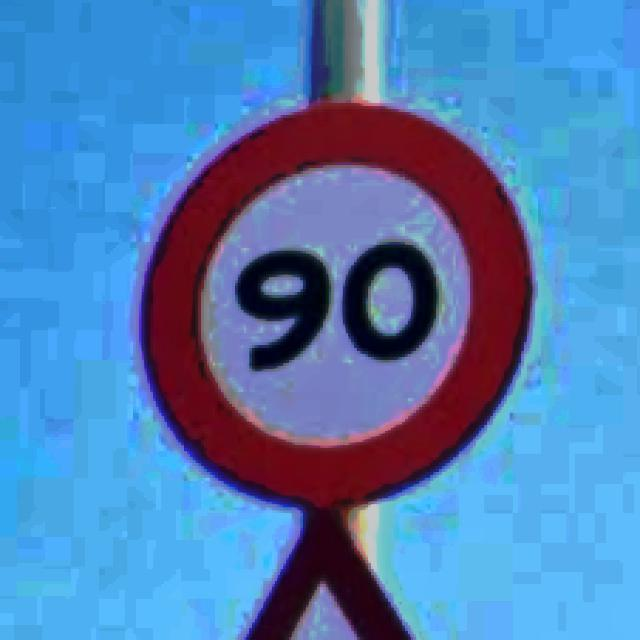max90: (136, 94, 535, 510)
